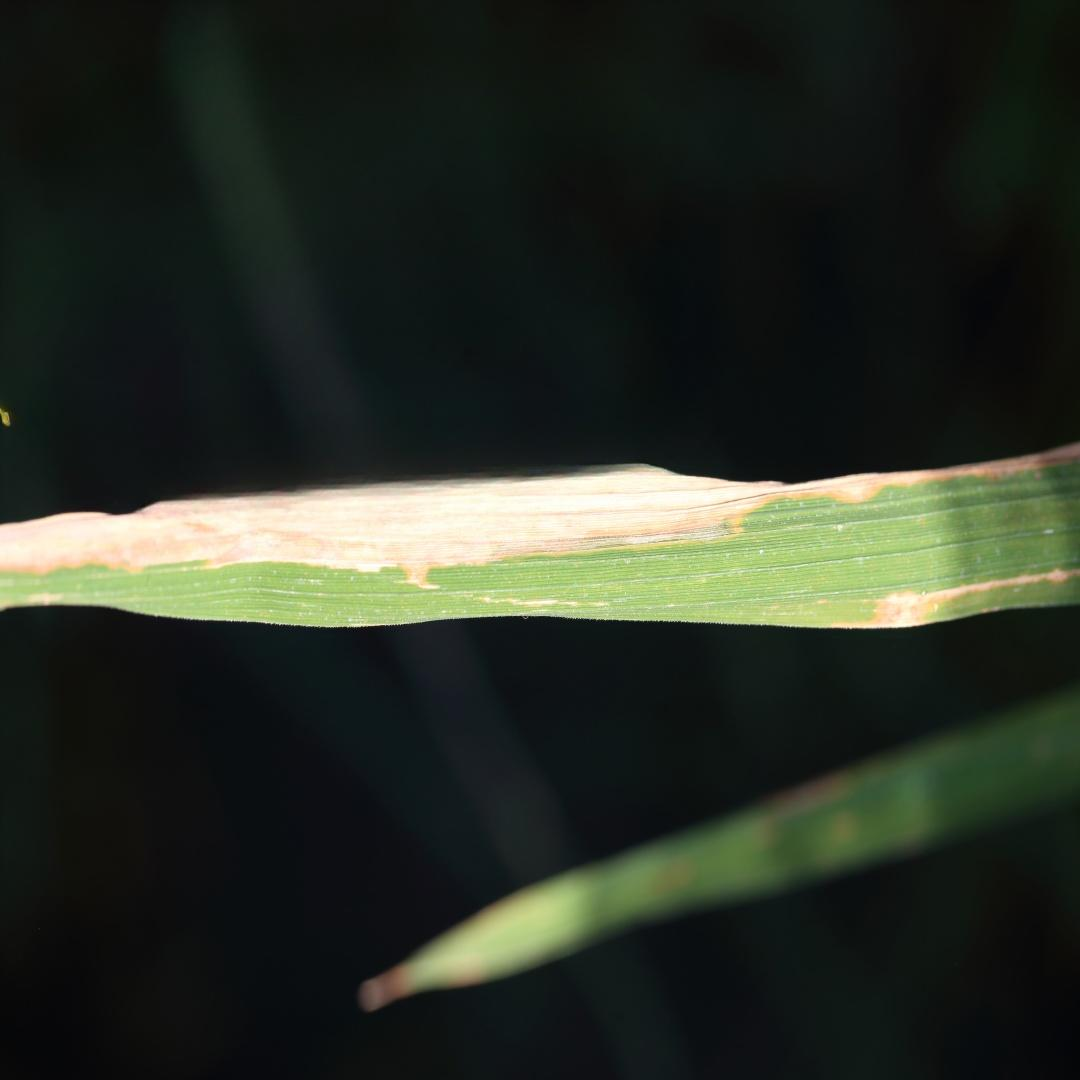BLB: (2, 446, 1079, 591), (830, 567, 1079, 627)
LEAF: (0, 445, 1079, 628)
